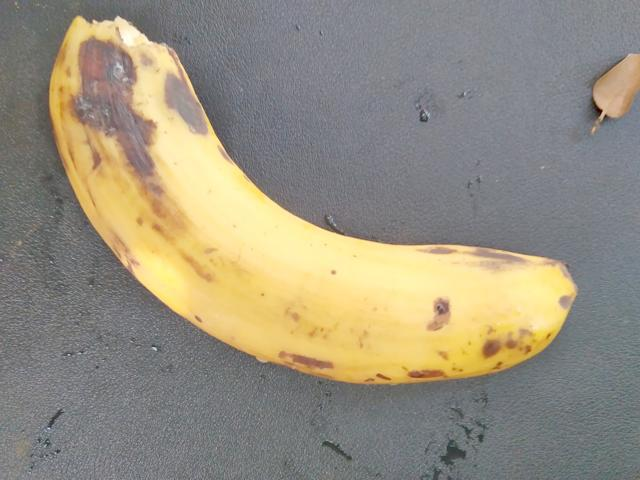overripe: (40, 4, 588, 387)
